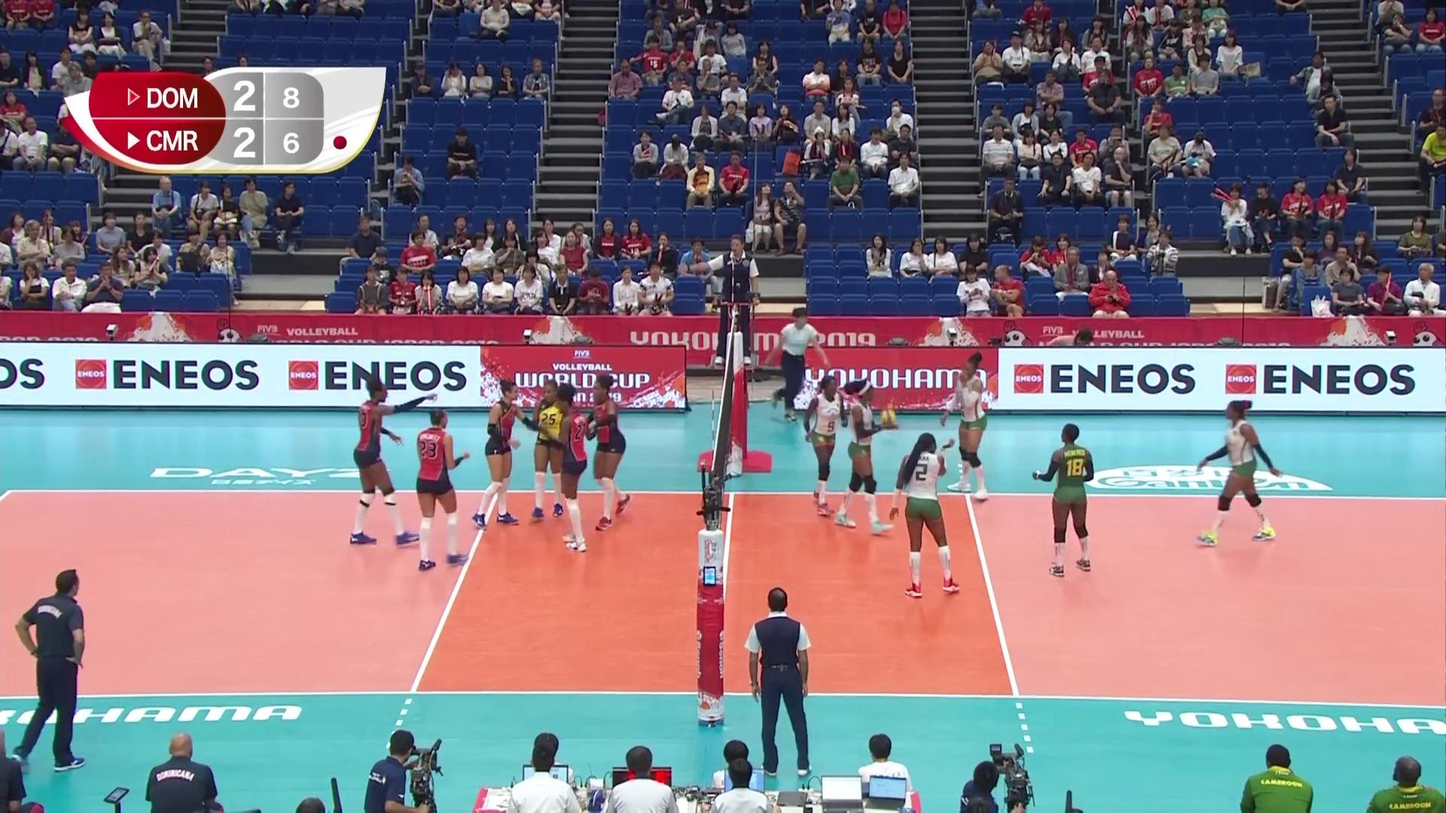player: (347, 378, 428, 547), (1197, 400, 1283, 545), (893, 434, 962, 597), (475, 379, 534, 532), (416, 410, 471, 572), (838, 379, 894, 536), (1035, 426, 1094, 575), (581, 375, 632, 529), (547, 387, 593, 551), (943, 355, 990, 501), (806, 376, 848, 518), (527, 381, 568, 522)
refree: (745, 586, 816, 775), (697, 236, 759, 367)
